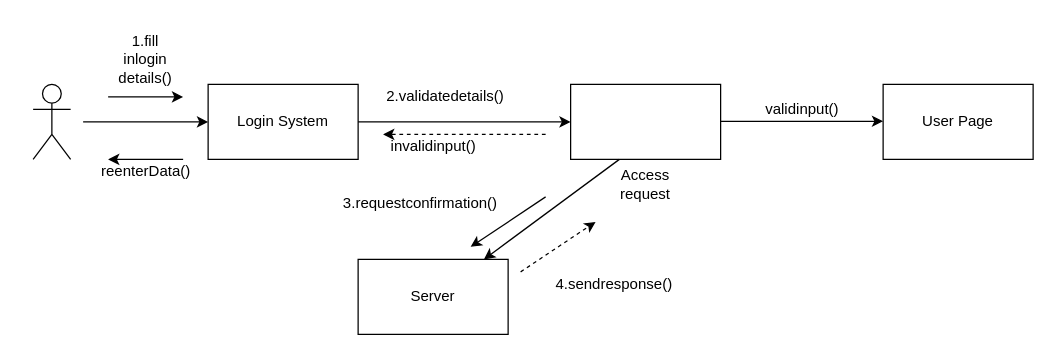
Image size: 1055x356. Some labels were removed from this diagram. The box of each missing label's shape, as (x1, y1, x2, y2) in pixels:
All Users: (32, 83, 71, 159)
Authentication System: (569, 83, 721, 159)
